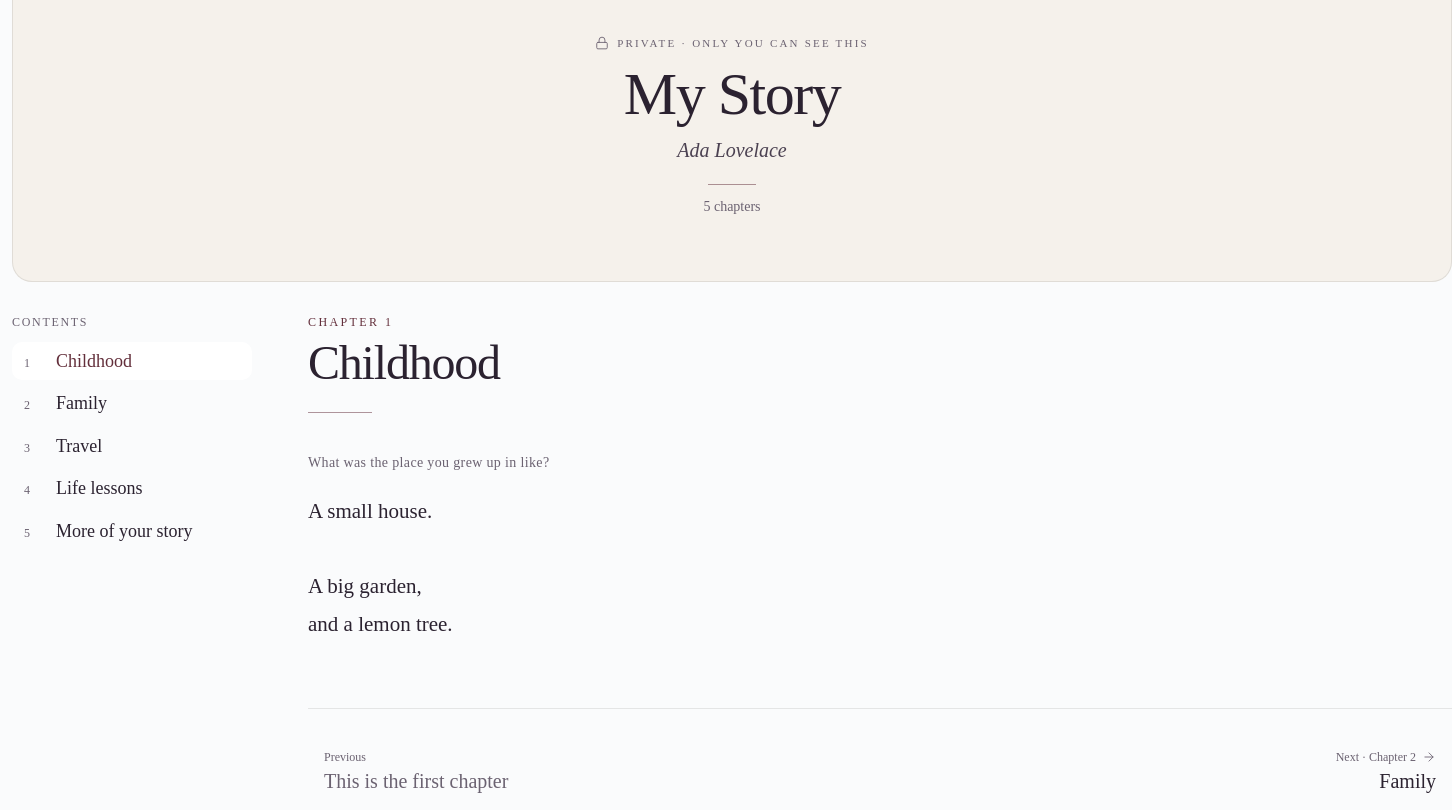
Test: Book reader: turning pages › a failed animation still lands on the chapter and restores the controls
The image size is (1452, 810).
(page scrolled)
Expected: the navigation bar named "Chapters" is shown, [308,708,1451,809]
Click the link "Next · Chapter 2 Family" at (1386, 771), box [1336,750,1436,792]
(page scrolled)
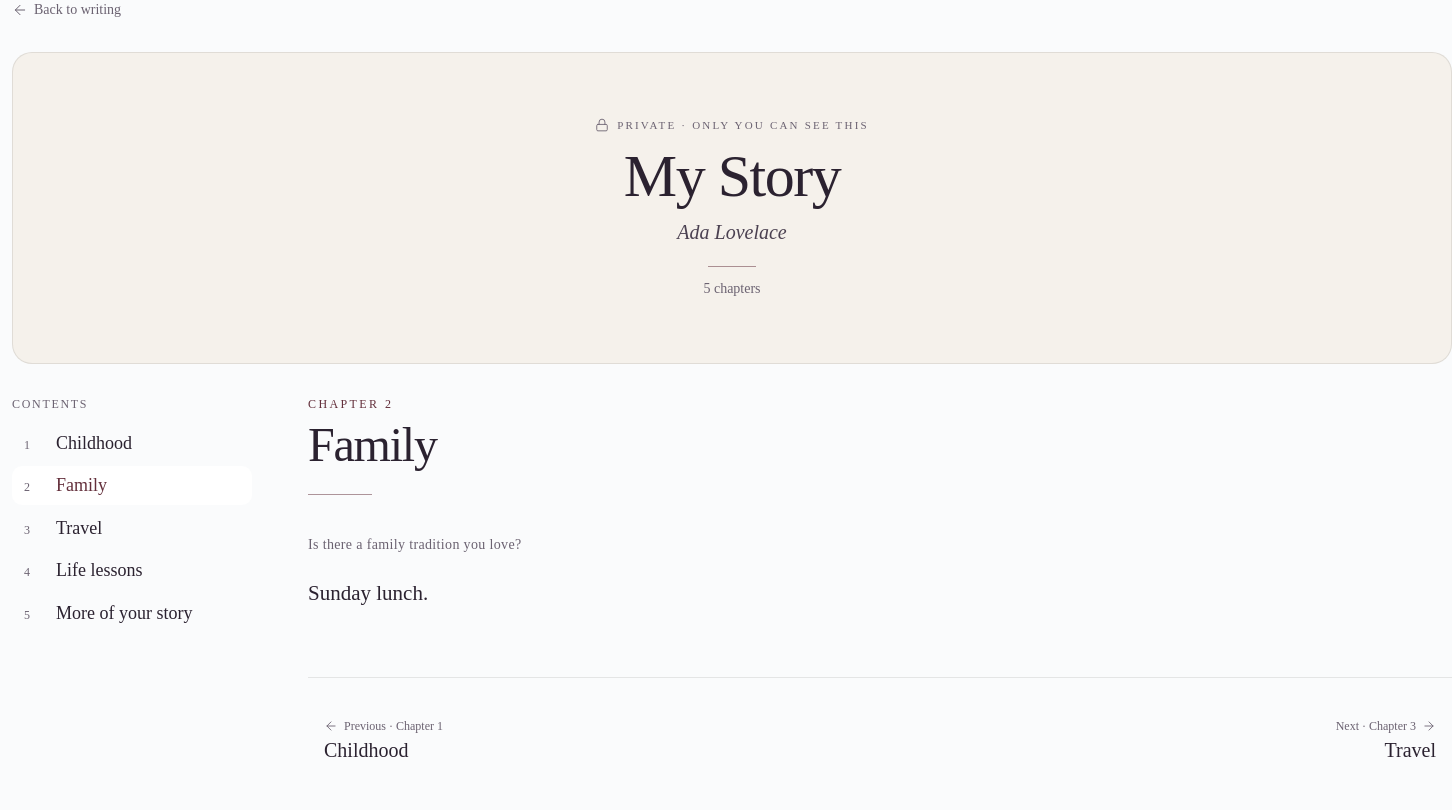
Expected: the heading "Family" is shown, [308,418,437,470]
